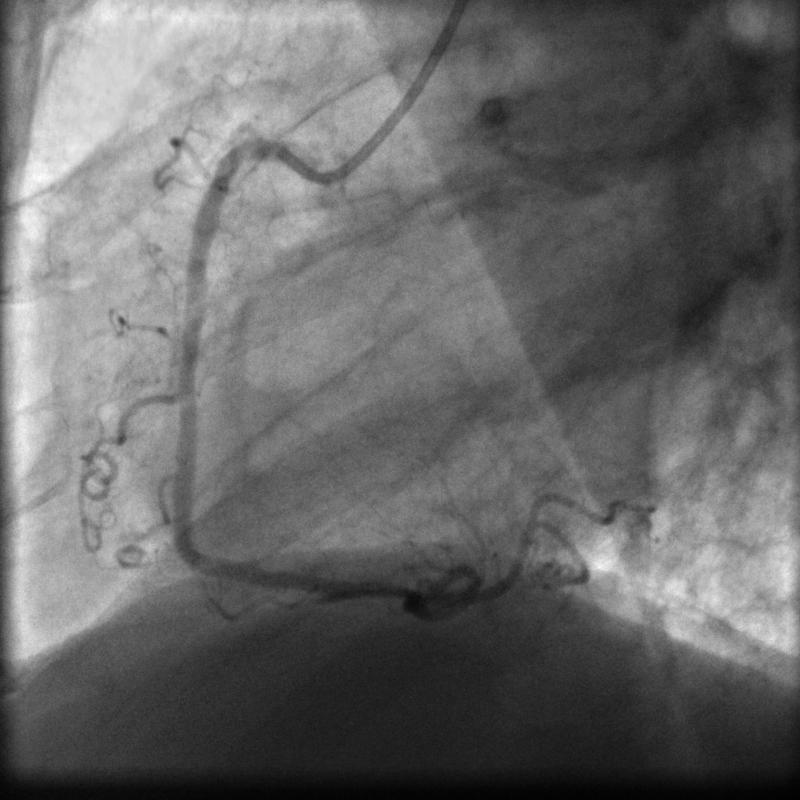Stenosis: (356, 566, 417, 615)
